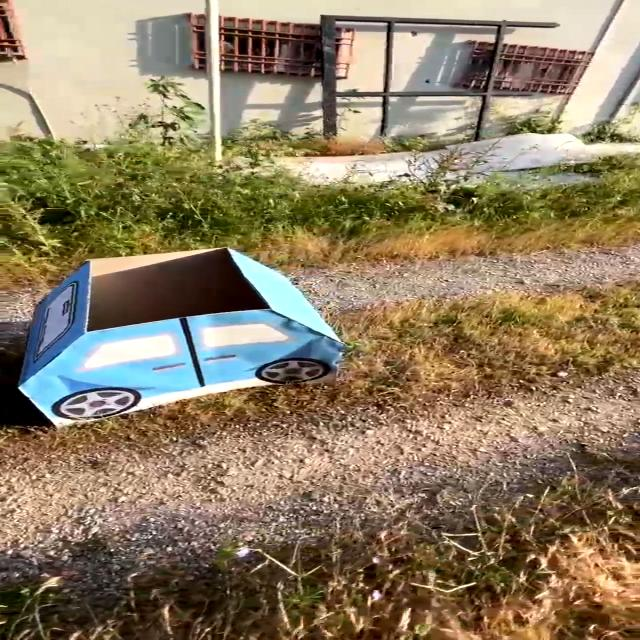blue_car: (0, 194, 395, 437)
